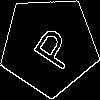P: (24, 20, 79, 73)
